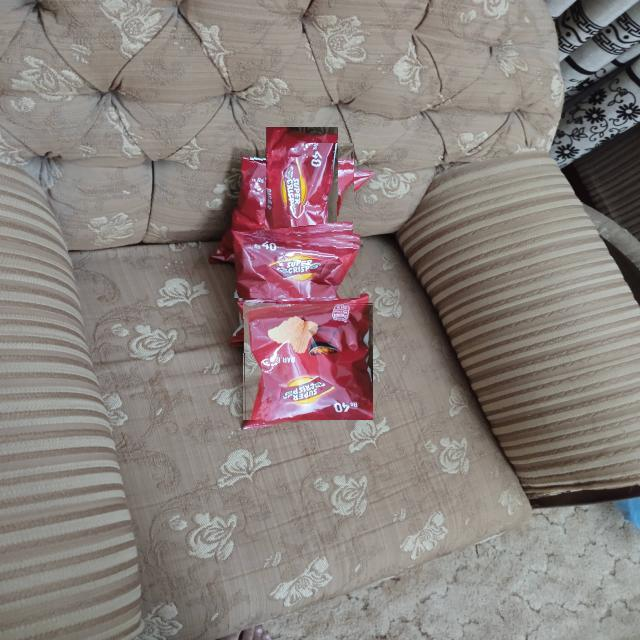Plastic: (242, 302, 373, 420), (249, 143, 354, 246), (226, 232, 363, 298)
